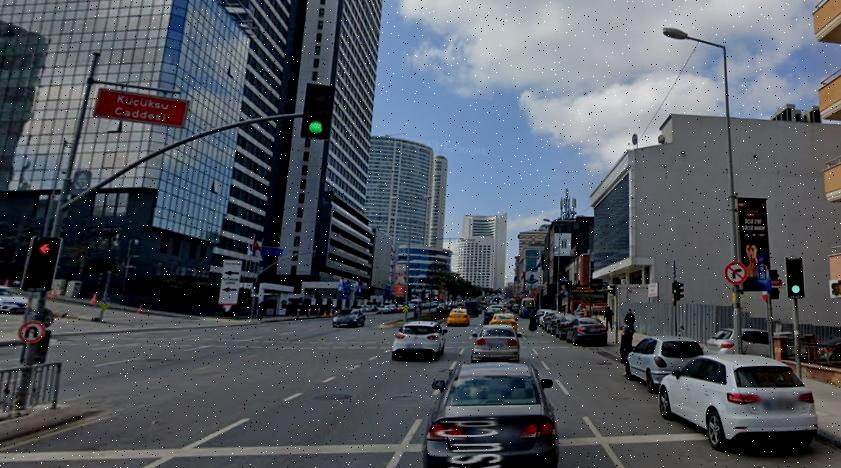greenlight: (305, 81, 329, 135), (786, 257, 804, 296)
redlight: (30, 236, 54, 287)
rightturnsareforbidden: (726, 262, 748, 284)
